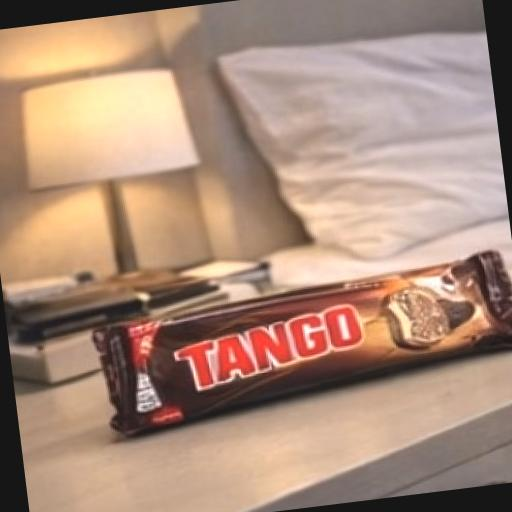tango: (47, 208, 512, 480)
